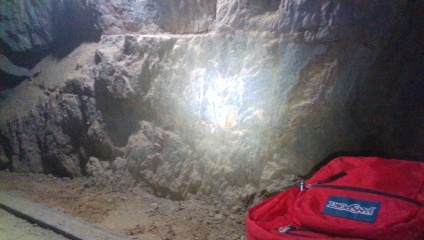backpack: (241, 155, 422, 238)
